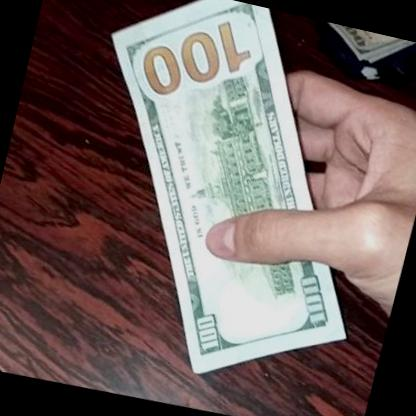one_hundred-back: (36, 0, 416, 407)
